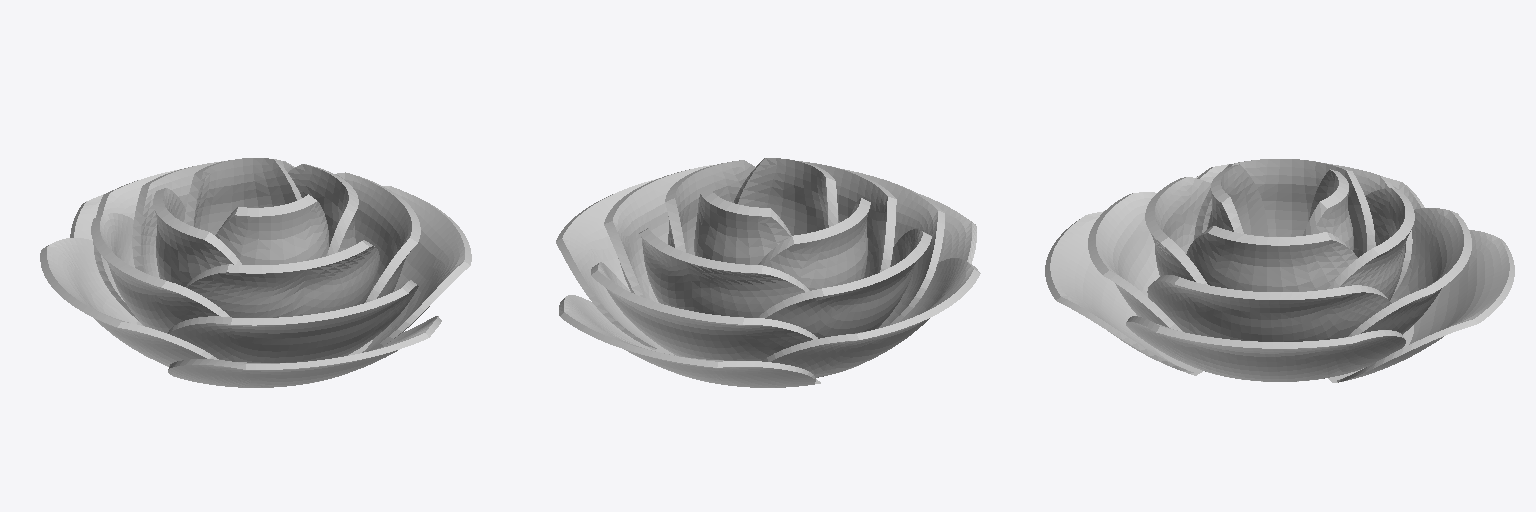
Rendered from rose.obj.
3 renders of one model, left to right at view 1: azimuth 30°, elevation 25°; view 2: azimuth 150°, elevation 25°; view 3: azimuth 270°, elevation 25°, orthographic.
Parts seen in each view (by area): view 1: rose_4_130420c; view 2: rose_4_130420c; view 3: rose_4_130420c.
Boxes of the visible parts, box(x1,y1,x2,y2) form: rose_4_130420c: box(40, 158, 471, 387); rose_4_130420c: box(556, 158, 980, 387); rose_4_130420c: box(1045, 159, 1514, 382).
Bounding box in the file's own units: 76.81 × 28.76 × 83.64.